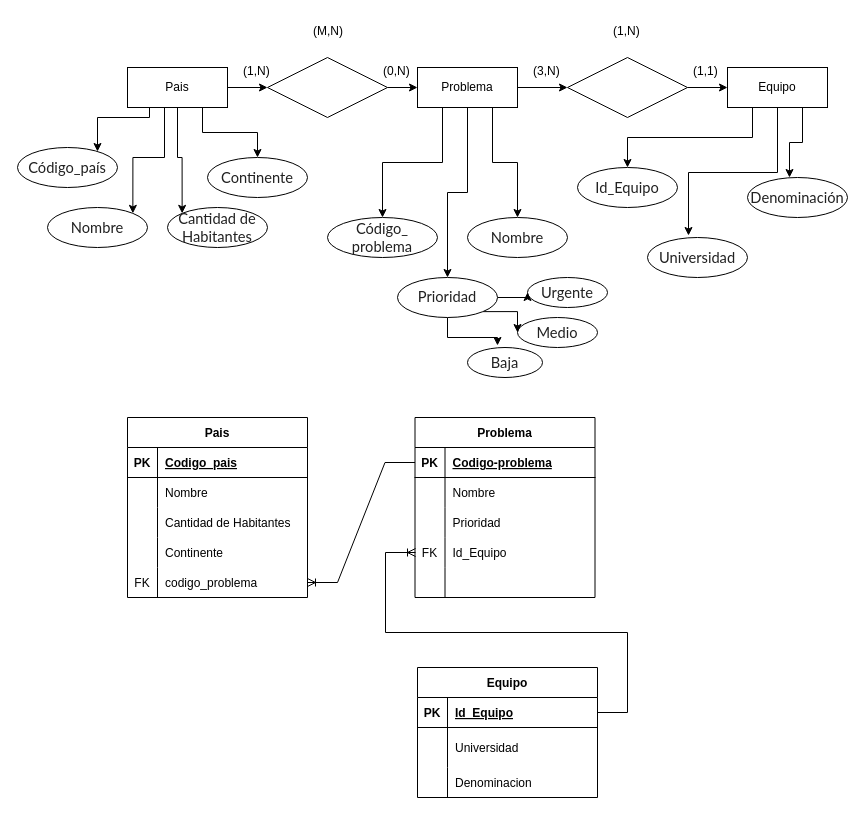
Some shapes in this 865 by 815 pixel diagram are drawn without their labels. Here are the shapes that lost their labels. From the top down, the centre of each, then its label:
the point at 327,87: identifica
the point at 627,87: es investigado
